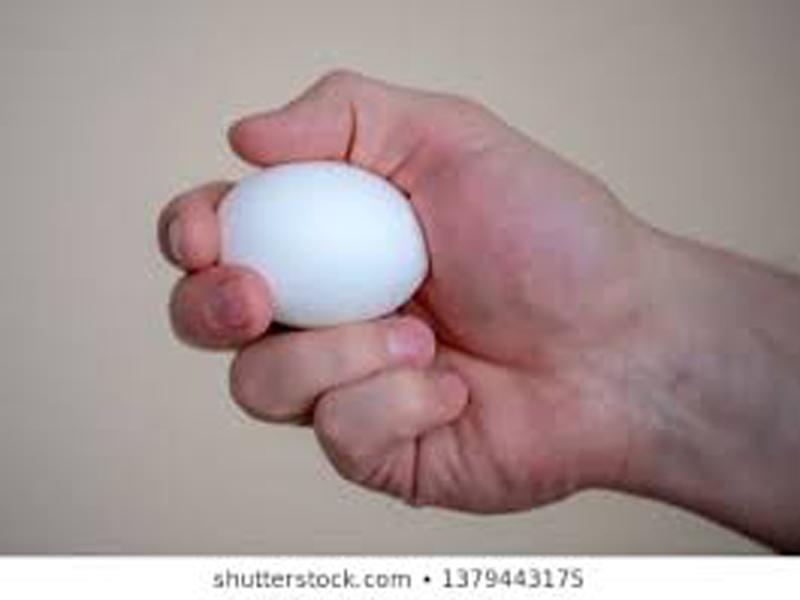Eggs: (217, 161, 432, 325)
